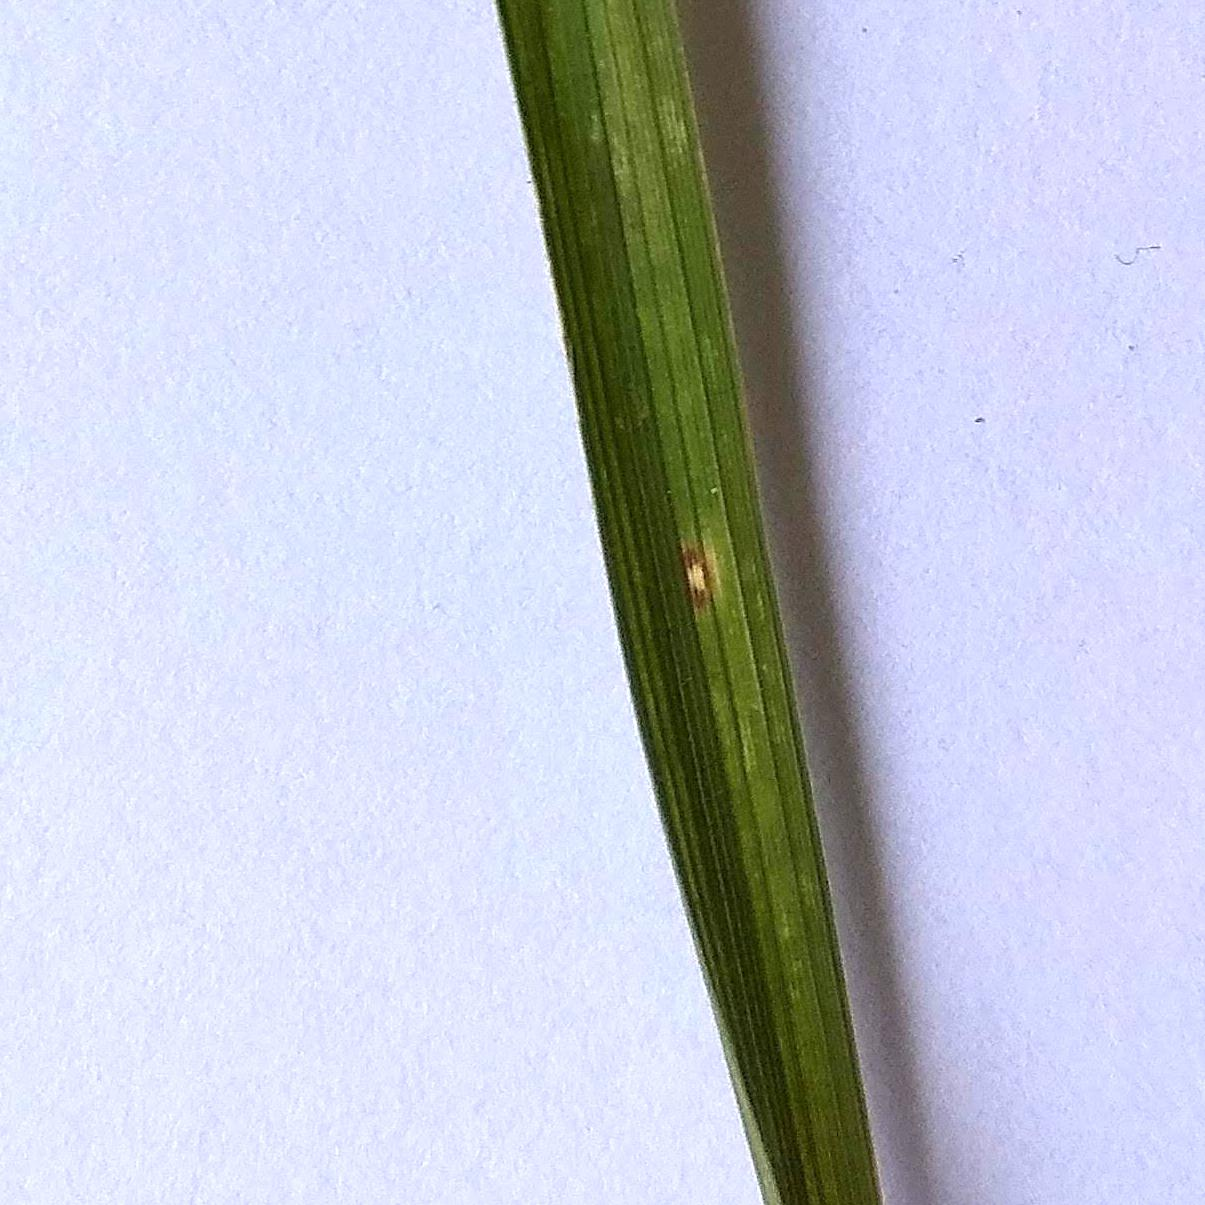1 RiceBlast: (667, 520, 728, 630)
